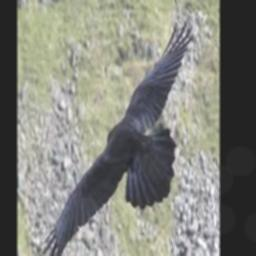Crow: (40, 22, 194, 256)
